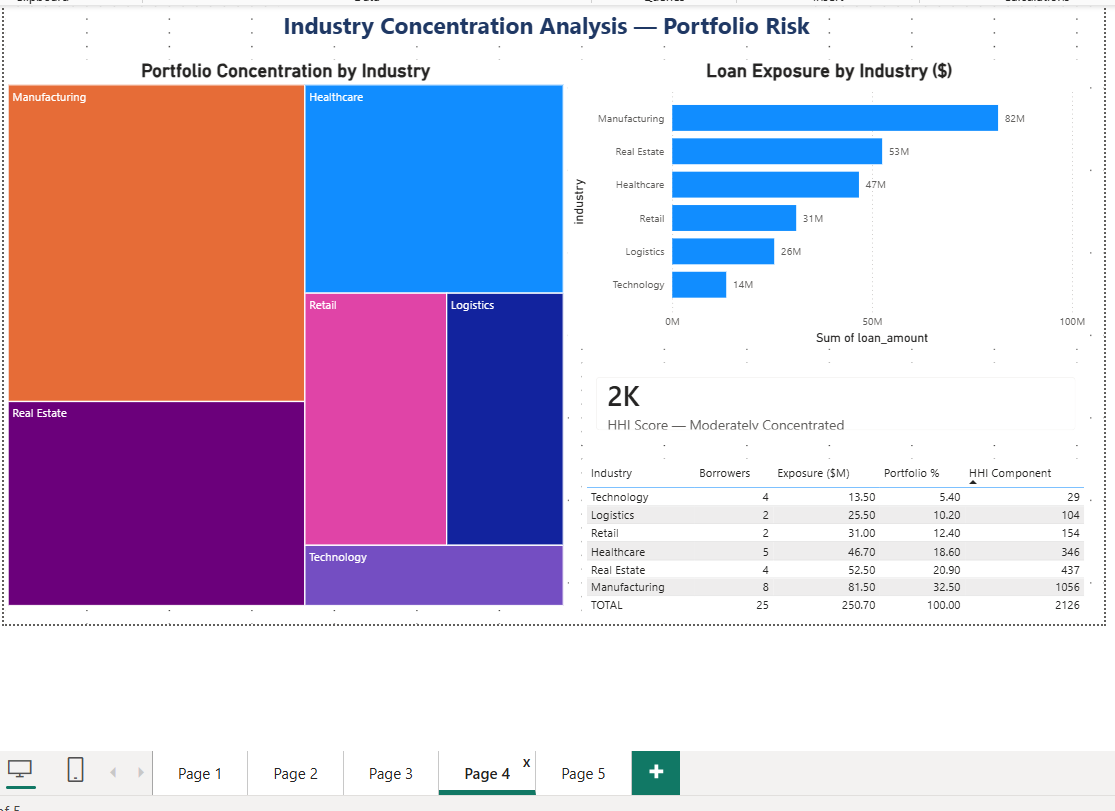

Layout of this report page (visuals, bound fields, positions):
{"tool":"powerbi","page":{"name":"Page 4","canvas":[1280,720],"ordinal":3},"visuals":[{"type":"textbox","box":[320,0,624,48],"z":0},{"type":"treemap","title":"Portfolio Concentration by Industry","fields":{"Group":["borrowers_data.industry"],"Values":["Sum(borrowers_data.loan_amount)"]},"box":[0,64,656,640],"z":1},{"type":"clusteredBarChart","title":"Loan Exposure by Industry ($)","fields":{"Category":["borrowers_data.industry"],"Y":["Sum(borrowers_data.loan_amount)"]},"box":[656,64,608,336],"z":2},{"type":"cardVisual","fields":{"Data":["HHI_Data.HHI Score"]},"box":[672,416,592,96],"z":3},{"type":"tableEx","fields":{"Values":["HHI_Data.Industry","HHI_Data.Borrowers","HHI_Data.Exposure ($M)","HHI_Data.Portfolio %","HHI_Data.HHI Component"]},"box":[672,528,592,192],"z":4}]}

Visuals, with their boxes on the page's 1280x720 design canvas (x1, y1, x2, y2). These are canvas units, not pixel positions in the 1115x811 screenshot, which may show the page scaled, cropped or inside an application window:
textbox: select_region(320, 0, 944, 48)
"Portfolio Concentration by Industry" treemap: select_region(0, 64, 656, 704)
"Loan Exposure by Industry ($)" clusteredBarChart: select_region(656, 64, 1264, 400)
cardVisual - HHI_Data.HHI Score: select_region(672, 416, 1264, 512)
tableEx - HHI_Data.Industry x HHI_Data.Borrowers: select_region(672, 528, 1264, 720)
